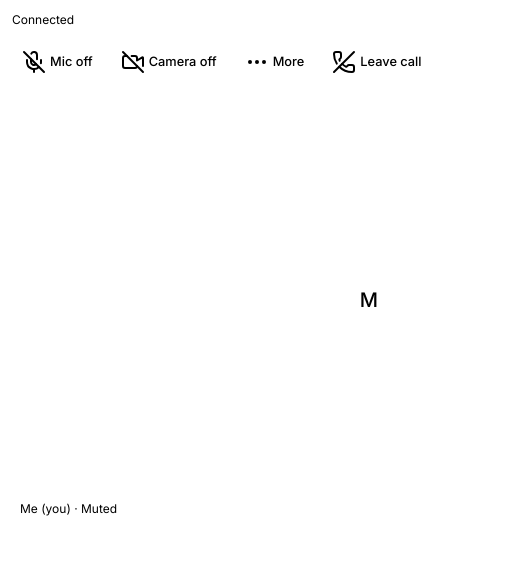
Test case: connects muted, explains denied microphone access, and lets the user retry
Later steps or results of the test are not shown.
Expected: the text "Connected" is shown, [12,12,74,27]
Click the button with aria-label "Unmute microphone".
click(57, 62)  # box [12,40,103,84]
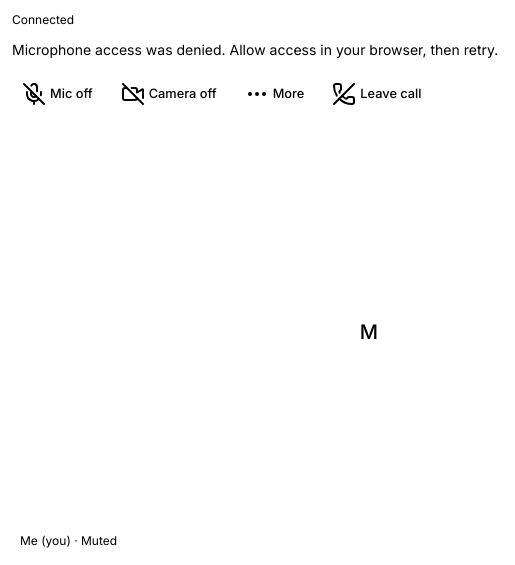
Result: the message "Microphone access was denied. Allow access in your browser, then retry." is shown at [12,41,498,58]
